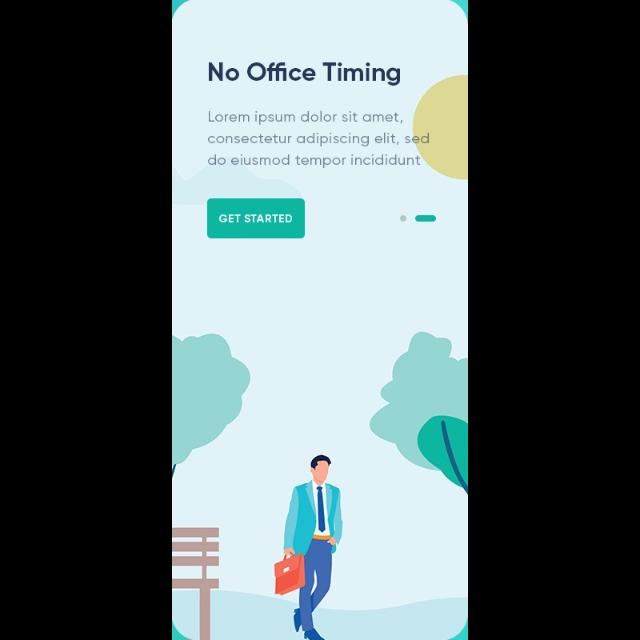backgroundimage: (172, 2, 468, 640)
pageindicator: (398, 213, 438, 225)
text: (208, 110, 430, 170), (209, 61, 401, 87)
textbutton: (207, 199, 305, 239)
